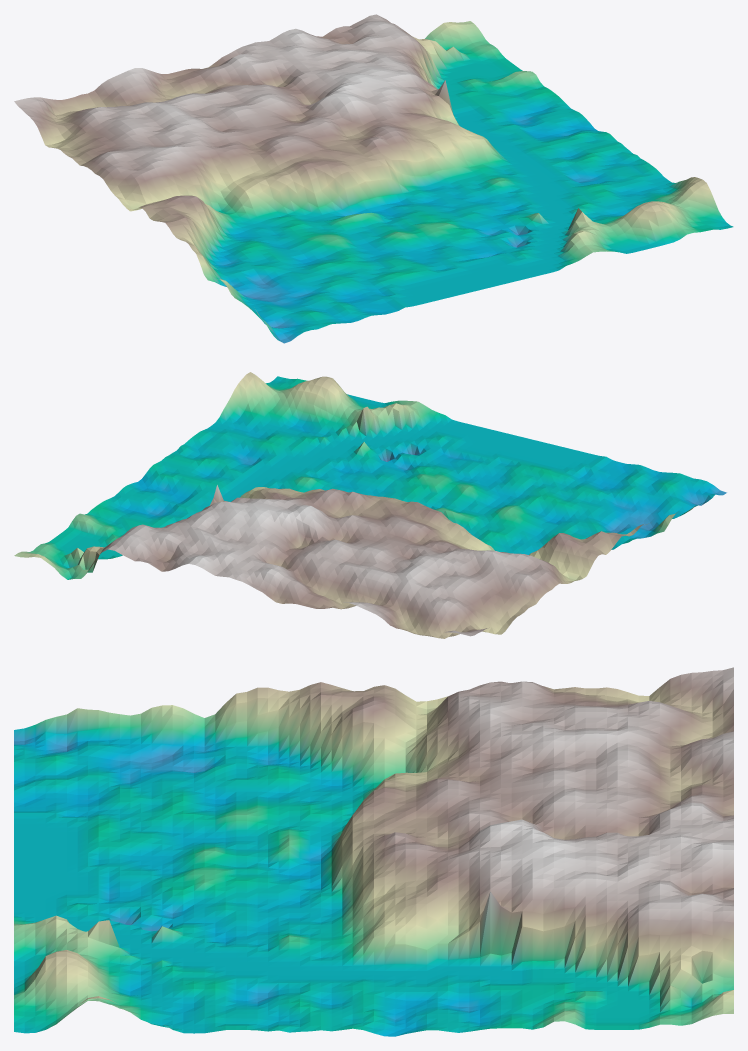
File: 000298_terrain_only.glb
The picture shows the model from 3 angles, top to bottom: view 1: azimuth 30°, elevation 25°; view 2: azimuth 150°, elevation 25°; view 3: azimuth 270°, elevation 25°; orthographic projection. The views are drawn at different scales.
Visible parts, largest first — view 1: terrain; view 2: terrain; view 3: terrain.
Part boxes in pixels (<box>): terrain: <box>14,14,733,343</box>; terrain: <box>14,372,726,638</box>; terrain: <box>14,667,733,1036</box>.
Size of the model in its own units: 0.0183 by 0.00245 by 0.0183.
